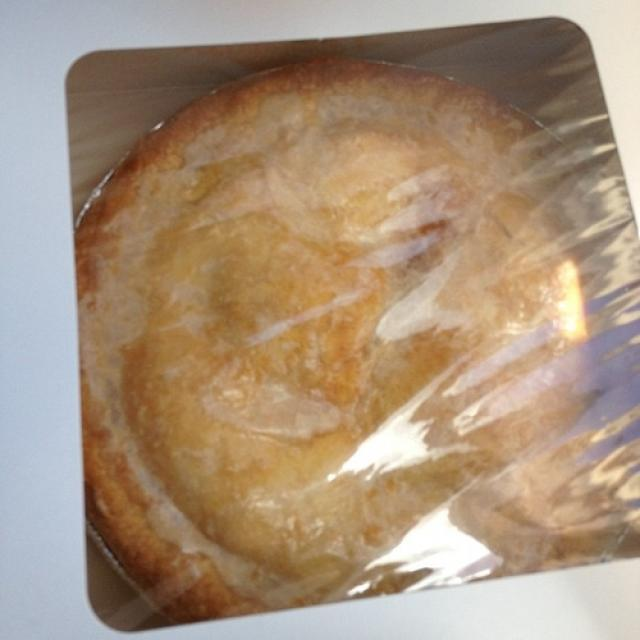Apple: (84, 77, 562, 557)
